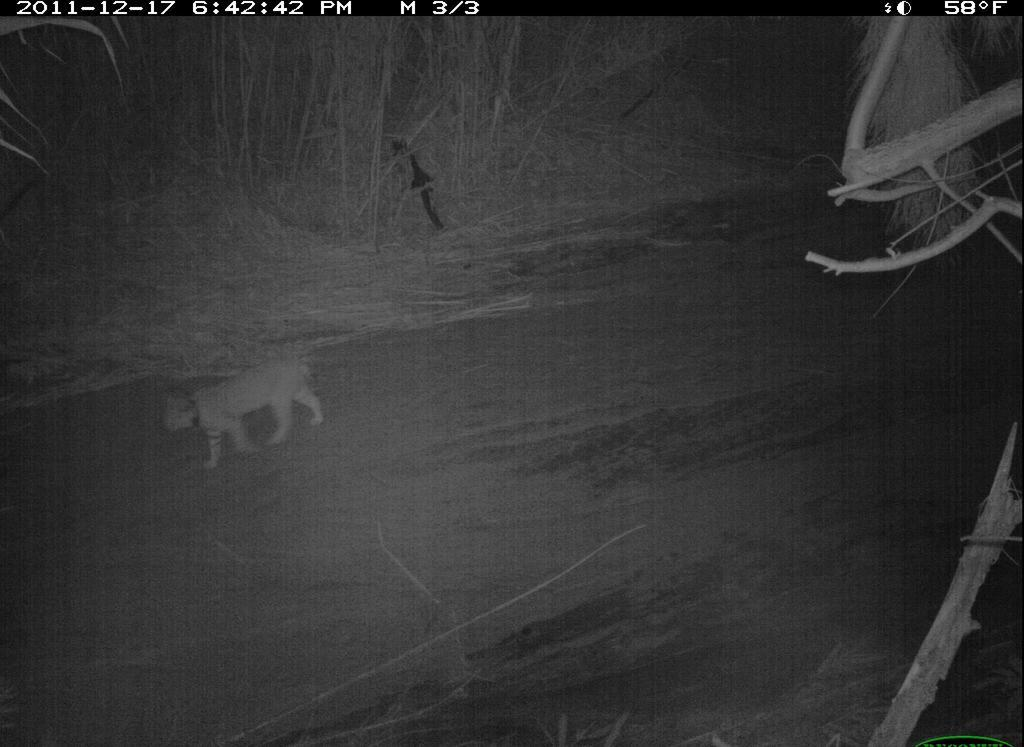bobcat: (148, 345, 338, 479)
